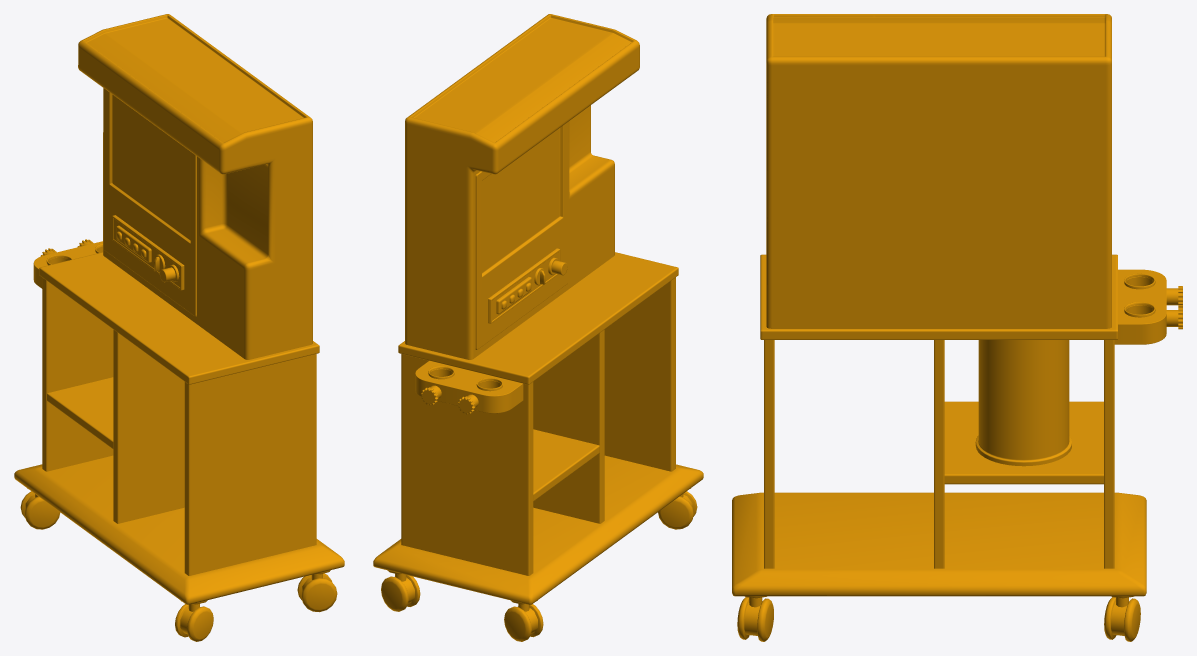
Rendered from Computer02.fbx.
3 views of the same model, side by side, from view 1: azimuth 30°, elevation 25°; view 2: azimuth 150°, elevation 25°; view 3: azimuth 270°, elevation 25° (orthographic). The views are drawn at different scales.
Parts seen in each view (by area): view 1: SM_Computer02; view 2: SM_Computer02; view 3: SM_Computer02.
Part boxes in pixels (x1,y1,x2,y2): SM_Computer02: [14, 14, 344, 641]; SM_Computer02: [373, 14, 703, 641]; SM_Computer02: [732, 14, 1182, 641].
Size of the model in its own units: 68.57 by 200 by 141.
